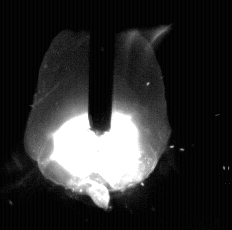arame: (88, 0, 114, 136)
poca: (23, 0, 169, 230)
